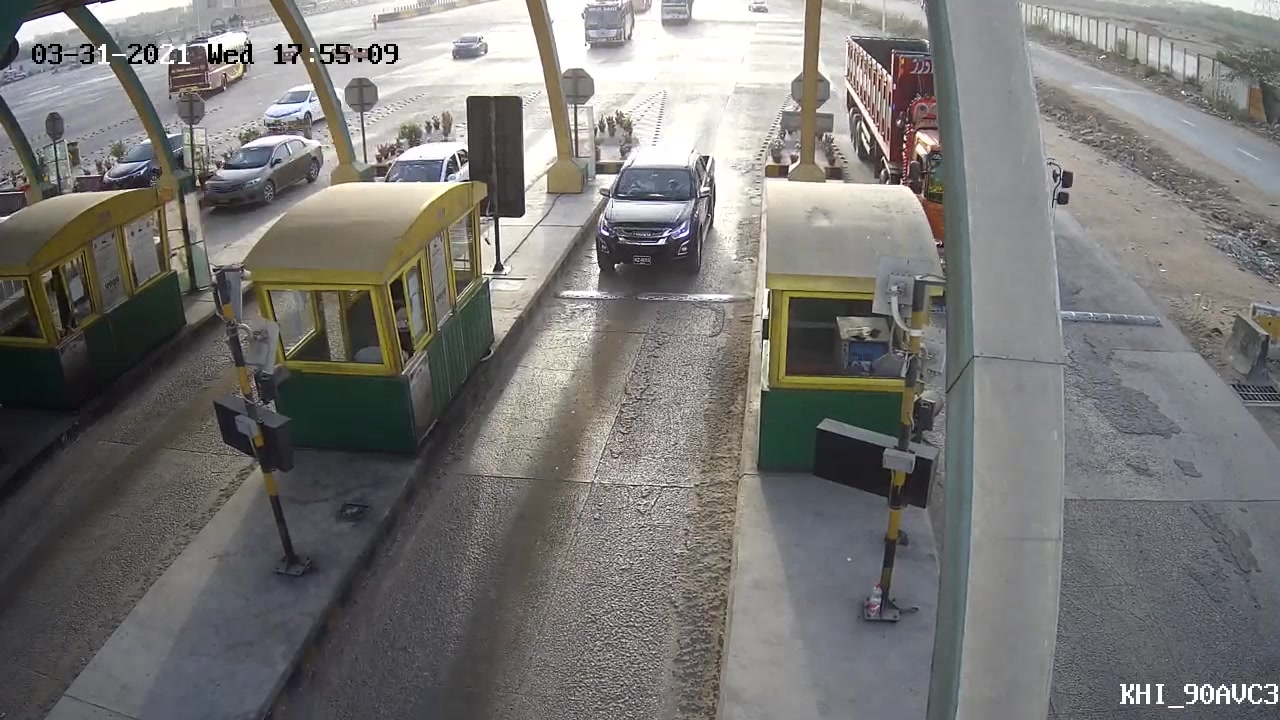F1: (585, 144, 727, 275)
